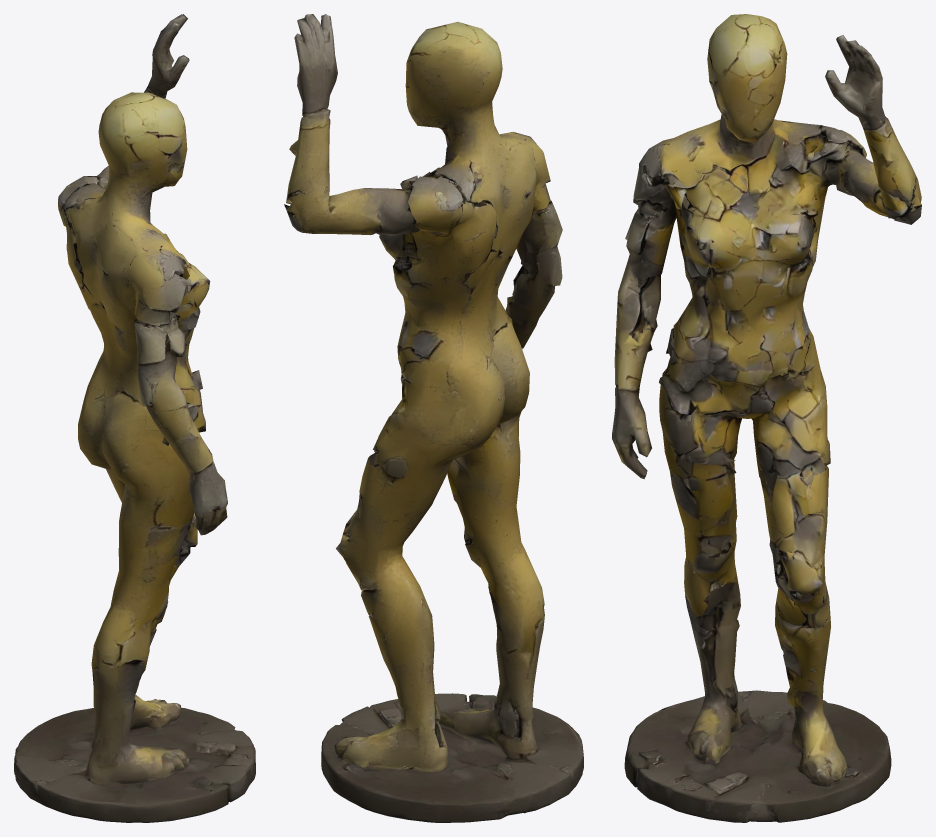
The model's file is mannequin_b.glb.
3 views of the same model, side by side, from view 1: azimuth 30°, elevation 25°; view 2: azimuth 150°, elevation 25°; view 3: azimuth 270°, elevation 25° (orthographic). The views are drawn at different scales.
Parts seen in each view (by area): view 1: tripo_node_dadf0e25-65eb-4dd9-9836-a0dd4dbd7730; view 2: tripo_node_dadf0e25-65eb-4dd9-9836-a0dd4dbd7730; view 3: tripo_node_dadf0e25-65eb-4dd9-9836-a0dd4dbd7730.
Part boxes in pixels (x1=…): tripo_node_dadf0e25-65eb-4dd9-9836-a0dd4dbd7730: x1=14, y1=14, x2=255, y2=822; tripo_node_dadf0e25-65eb-4dd9-9836-a0dd4dbd7730: x1=284, y1=14, x2=583, y2=822; tripo_node_dadf0e25-65eb-4dd9-9836-a0dd4dbd7730: x1=612, y1=14, x2=921, y2=822.
Bounding box in the file's own units: 0.3136 × 1 × 0.3621.
1 material, 1 textured.
